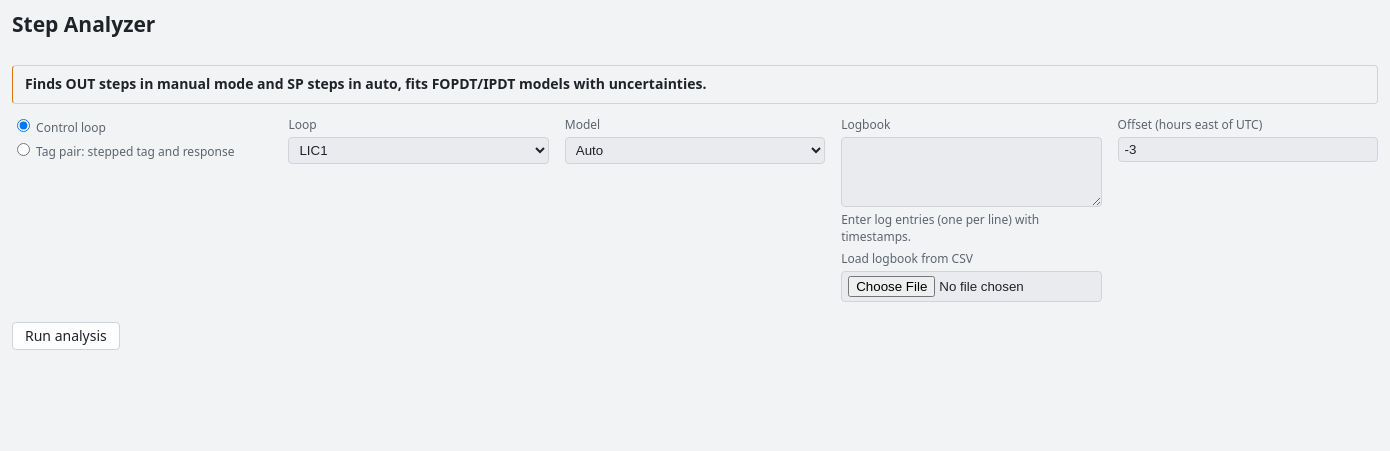
Test: empty and failing payloads › shows the empty text when the payload has no rows
Step 1. Click the button "Run analysis" → [66, 336], box [12, 322, 120, 350]
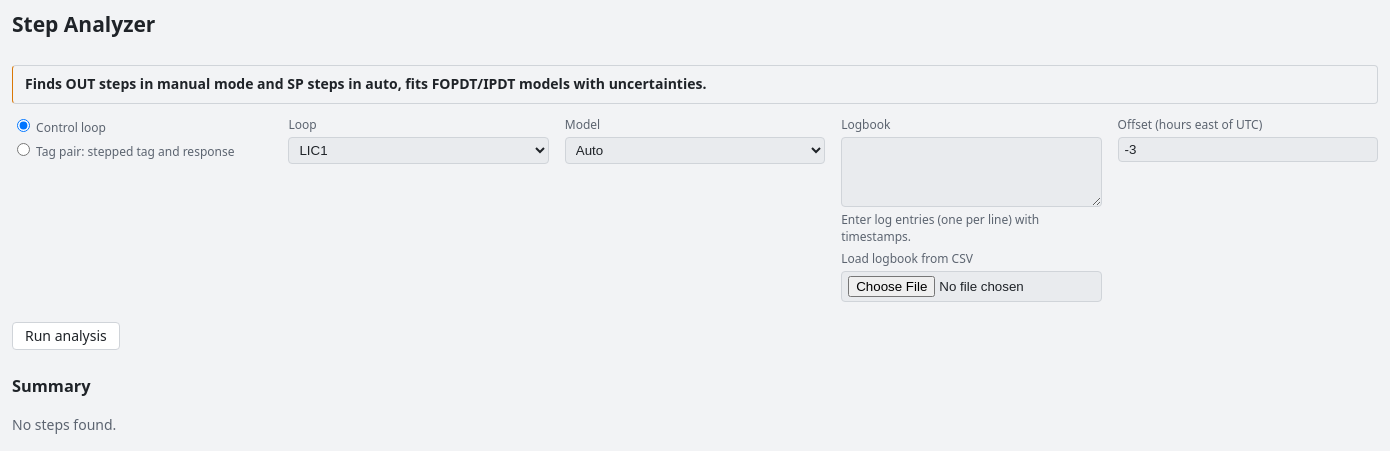
Check: the text "No steps found." is shown, box [12, 415, 116, 434]
